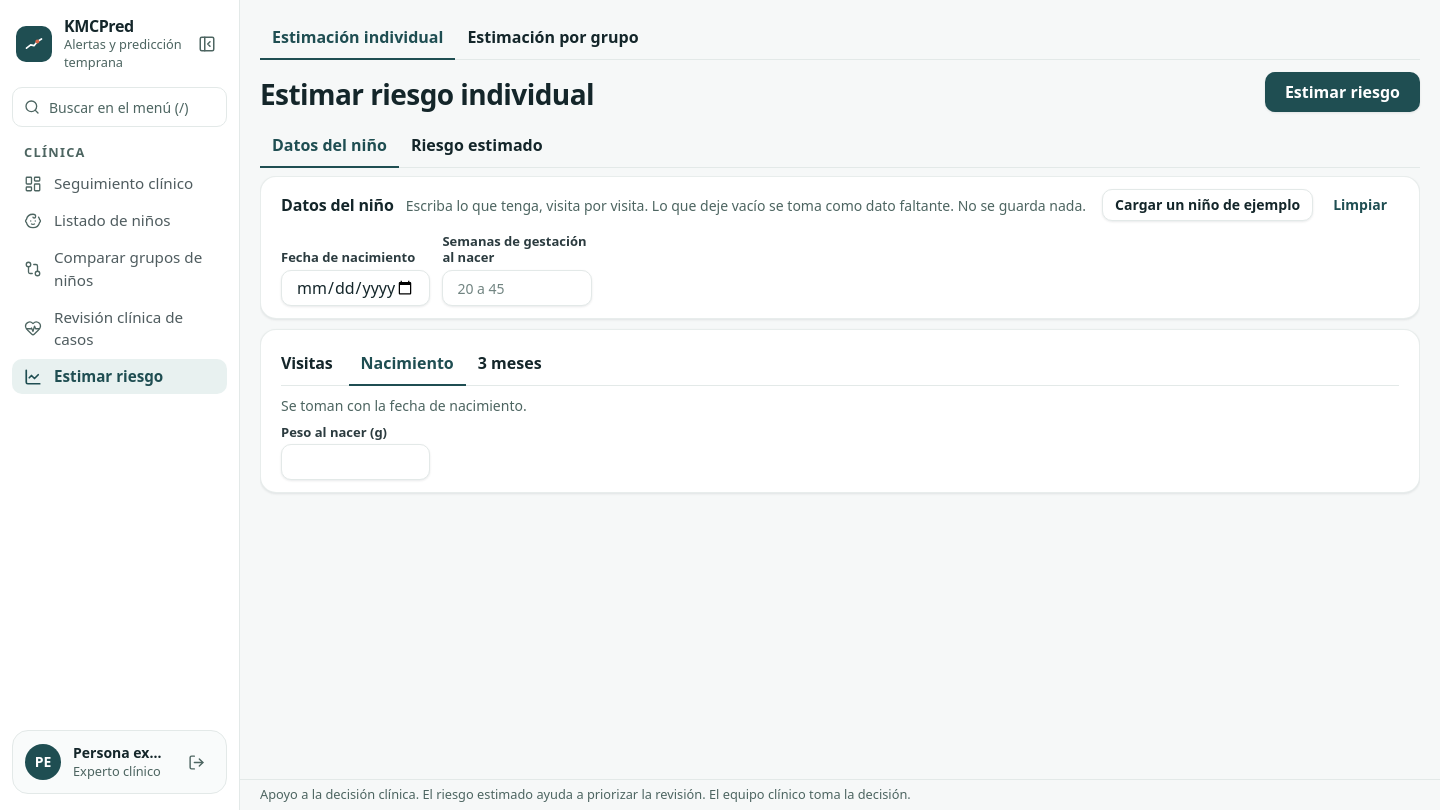
Test case: Calcular un niño en pestañas › antes de calcular, «Resultado» dice cómo verlo; «Calcular el riesgo» está a la vista
Expected: the date field labelled "Fecha de nacimiento" is shown, [281,270,430,306]
Click the tab "Riesgo estimado".
click(477, 146)  # box [399,124,555,168]
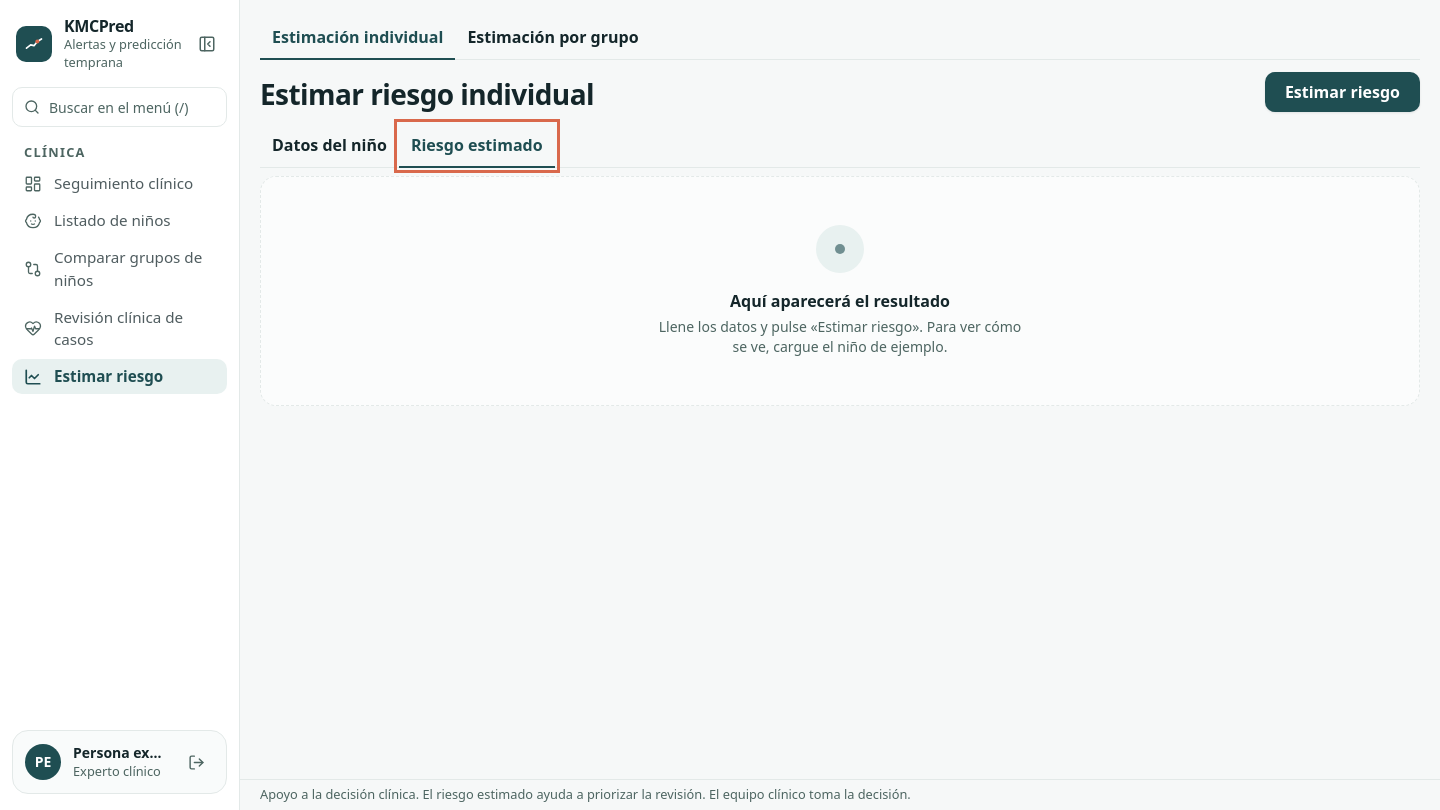
Expected: the button "Estimar riesgo" is enabled, [1265,72,1420,112]
Expected: the text "Aquí aparecerá el resultado" is shown, [730,290,950,312]
